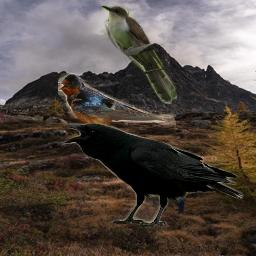Crow: (64, 123, 244, 228)
Cuckoo: (100, 3, 177, 104)
Swallow: (58, 73, 176, 127)
